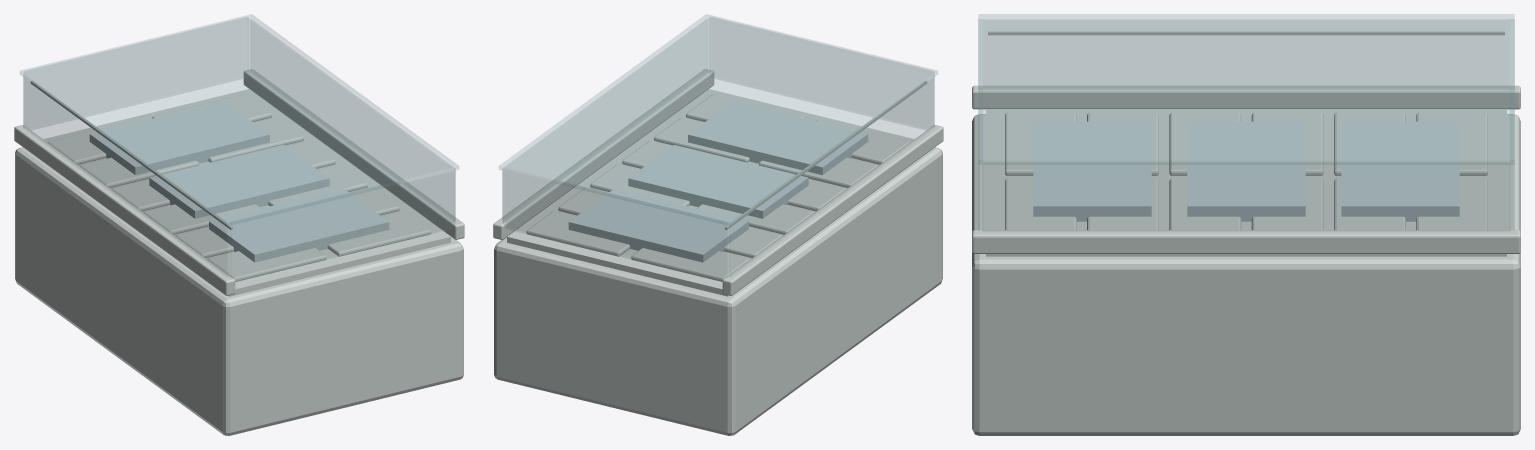
Rendered from fish-l0.glb.
3 renders of one model, left to right at view 1: azimuth 30°, elevation 25°; view 2: azimuth 150°, elevation 25°; view 3: azimuth 270°, elevation 25°, orthographic. The views are drawn at different scales.
Parts seen in each view (by area): view 1: fish-l0_fixture_Refrigerator enamel, fish-l0_fixture_Smoked glass approximation, fish-l0_fixture_ice; view 2: fish-l0_fixture_Refrigerator enamel, fish-l0_fixture_Smoked glass approximation, fish-l0_fixture_ice; view 3: fish-l0_fixture_Refrigerator enamel, fish-l0_fixture_Smoked glass approximation, fish-l0_fixture_ice.
Boxes of the visible parts, bbox=[...] form: fish-l0_fixture_Refrigerator enamel: bbox=[14, 69, 464, 435]; fish-l0_fixture_Smoked glass approximation: bbox=[20, 14, 458, 281]; fish-l0_fixture_ice: bbox=[89, 101, 389, 262]; fish-l0_fixture_Refrigerator enamel: bbox=[493, 69, 943, 435]; fish-l0_fixture_Smoked glass approximation: bbox=[499, 14, 937, 281]; fish-l0_fixture_ice: bbox=[568, 101, 868, 262]; fish-l0_fixture_Refrigerator enamel: bbox=[972, 31, 1520, 435]; fish-l0_fixture_Smoked glass approximation: bbox=[978, 14, 1514, 230]; fish-l0_fixture_ice: bbox=[1033, 121, 1459, 221].
Size of the model in its own units: 1.7 by 1.44 by 2.6.
